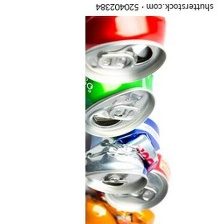can: (81, 116, 166, 197), (83, 15, 175, 86), (81, 74, 164, 139), (99, 152, 179, 213), (72, 191, 158, 223)
